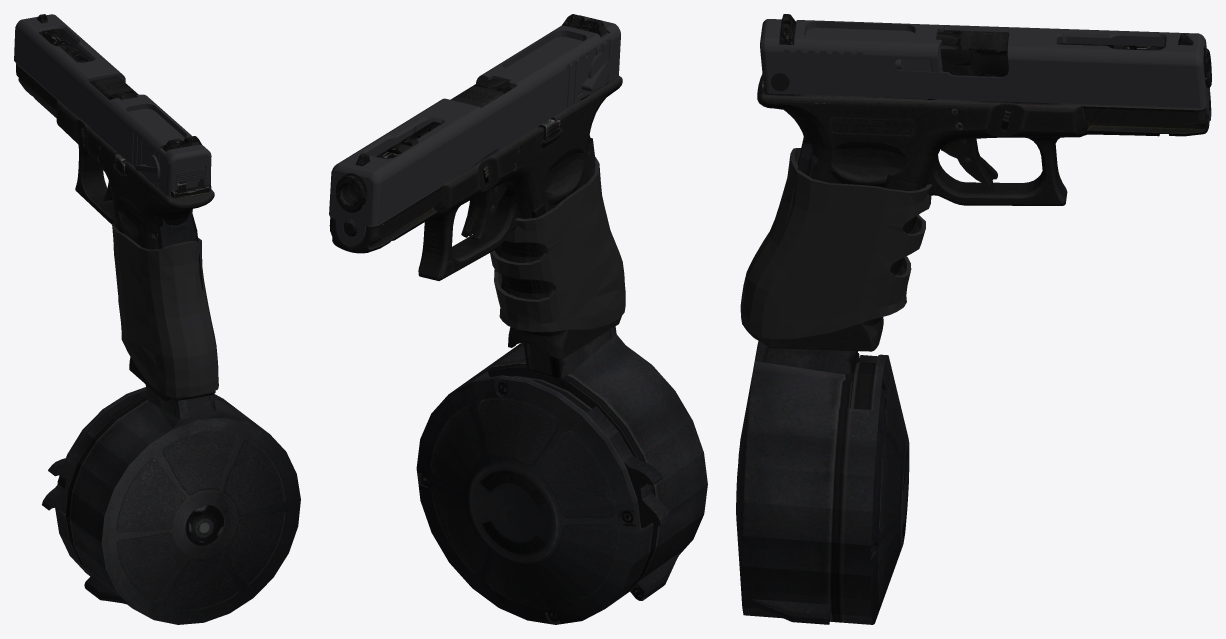
The model's file is pistol_drum_blank.glb.
3 renders of one model, left to right at view 1: azimuth 30°, elevation 25°; view 2: azimuth 150°, elevation 25°; view 3: azimuth 270°, elevation 25°, orthographic. The views are drawn at different scales.
Visible parts, largest first — view 1: Object_14, Object_6, Object_8, Object_10; view 2: Object_14, Object_10, Object_8, Object_6; view 3: Object_14, Object_10, Object_8, Object_6.
Boxes of the visible parts, <box> form: Object_14: <box>42,211,300,624</box>; Object_6: <box>112,223,218,397</box>; Object_8: <box>14,14,211,195</box>; Object_10: <box>16,14,215,401</box>; Object_14: <box>416,135,707,624</box>; Object_10: <box>329,14,622,359</box>; Object_8: <box>329,15,620,245</box>; Object_6: <box>490,157,625,332</box>; Object_14: <box>736,132,909,624</box>; Object_10: <box>744,14,1211,351</box>; Object_8: <box>760,19,1211,120</box>; Object_6: <box>740,148,932,339</box>.
Bounding box in the file's own units: 0.0795 × 0.1737 × 0.1278.
5 materials, 3 textured.
